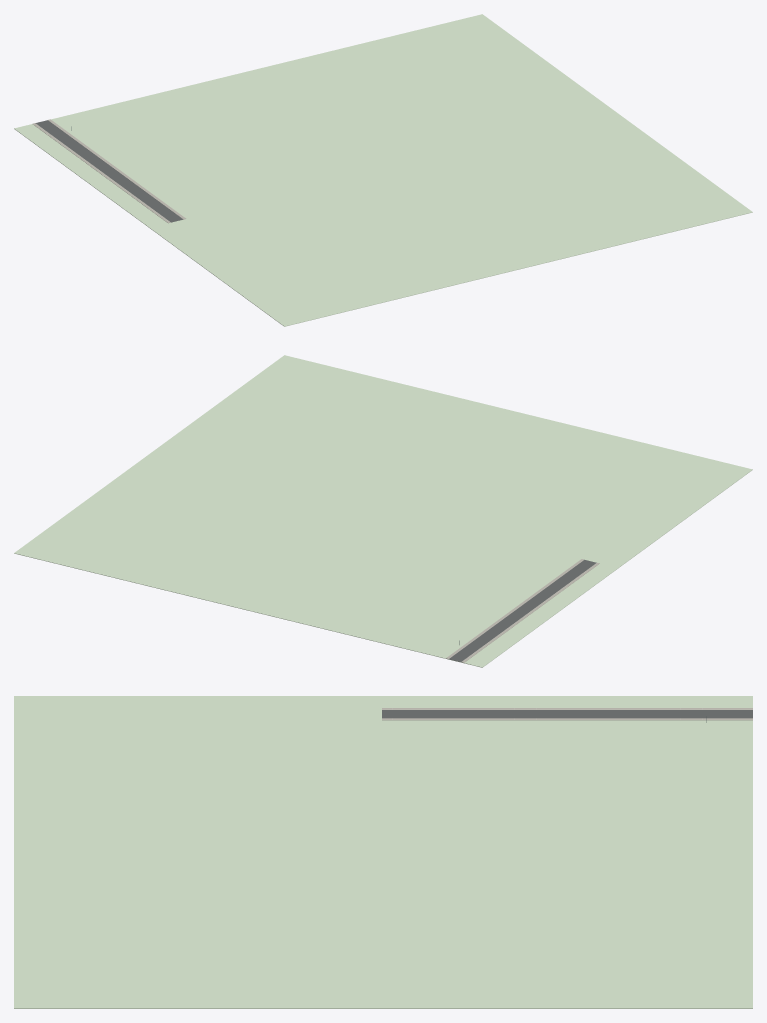
The model's file is chunk_4_3_low.glb.
3 views of the same model, one above another, from view 1: azimuth 30°, elevation 25°; view 2: azimuth 150°, elevation 25°; view 3: azimuth 270°, elevation 25° (orthographic). The views are drawn at different scales.
Visible parts, largest first — view 1: city_grass, city_world_asphalt, city_world_sidewalk; view 2: city_grass, city_world_asphalt, city_world_sidewalk; view 3: city_grass, city_world_asphalt, city_world_sidewalk.
Boxes of the visible parts, x1=… form: city_grass: x1=14, y1=14, x2=752, y2=326; city_world_asphalt: x1=35, y1=120, x2=182, y2=222; city_world_sidewalk: x1=32, y1=119, x2=185, y2=223; city_grass: x1=14, y1=355, x2=752, y2=667; city_world_asphalt: x1=449, y1=559, x2=596, y2=661; city_world_sidewalk: x1=446, y1=559, x2=599, y2=662; city_grass: x1=14, y1=696, x2=752, y2=1008; city_world_asphalt: x1=382, y1=710, x2=752, y2=718; city_world_sidewalk: x1=382, y1=708, x2=752, y2=720.
Size of the model in its own units: 512 by 5.42 by 512.
